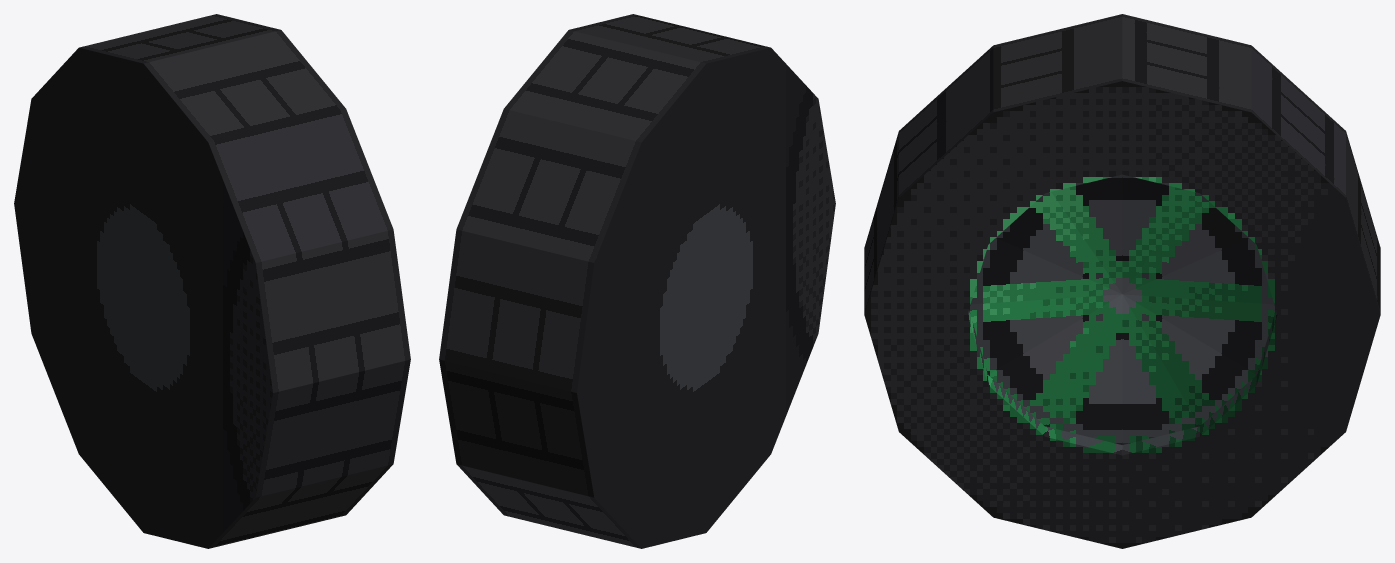
The model's file is wheel_six.glb.
The picture shows the model from 3 angles, left to right: view 1: azimuth 30°, elevation 25°; view 2: azimuth 150°, elevation 25°; view 3: azimuth 270°, elevation 25°; orthographic projection.
Visible parts, largest first — view 1: wheel_six; view 2: wheel_six; view 3: wheel_six.
Boxes of the visible parts, <box> form: wheel_six: <box>14,14,410,548</box>; wheel_six: <box>439,14,835,548</box>; wheel_six: <box>864,14,1380,548</box>.
Size of the model in its own units: 0.195 by 0.6345 by 0.6345.
1 material, 1 textured.
